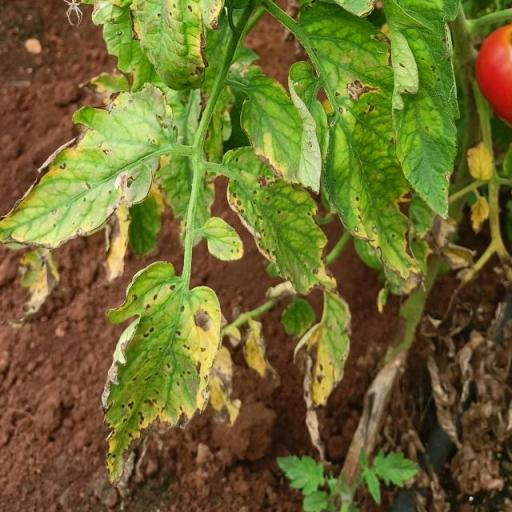Early Blight: (289, 0, 426, 291), (2, 80, 186, 252), (95, 258, 224, 490), (224, 144, 342, 299)
